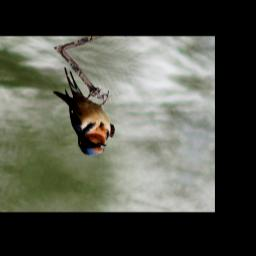Swallow: (40, 66, 132, 161)
